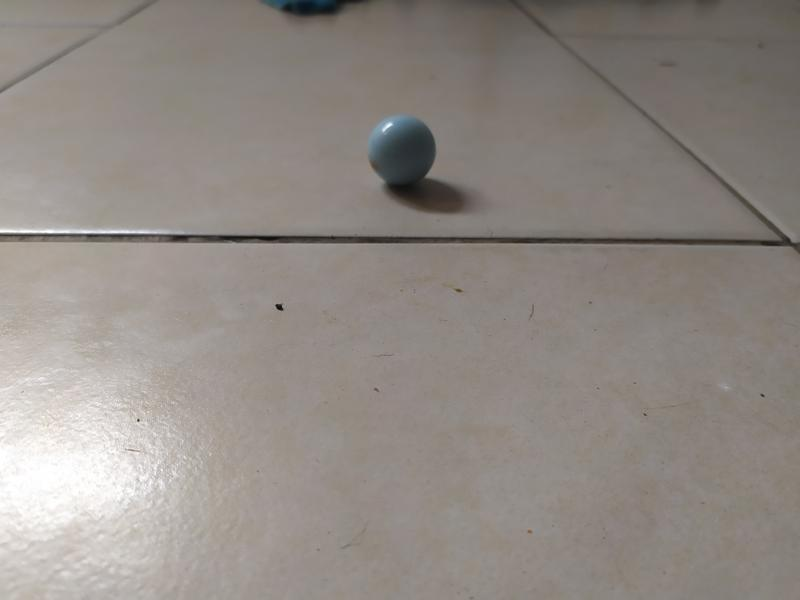Warning: (363, 111, 439, 190)
